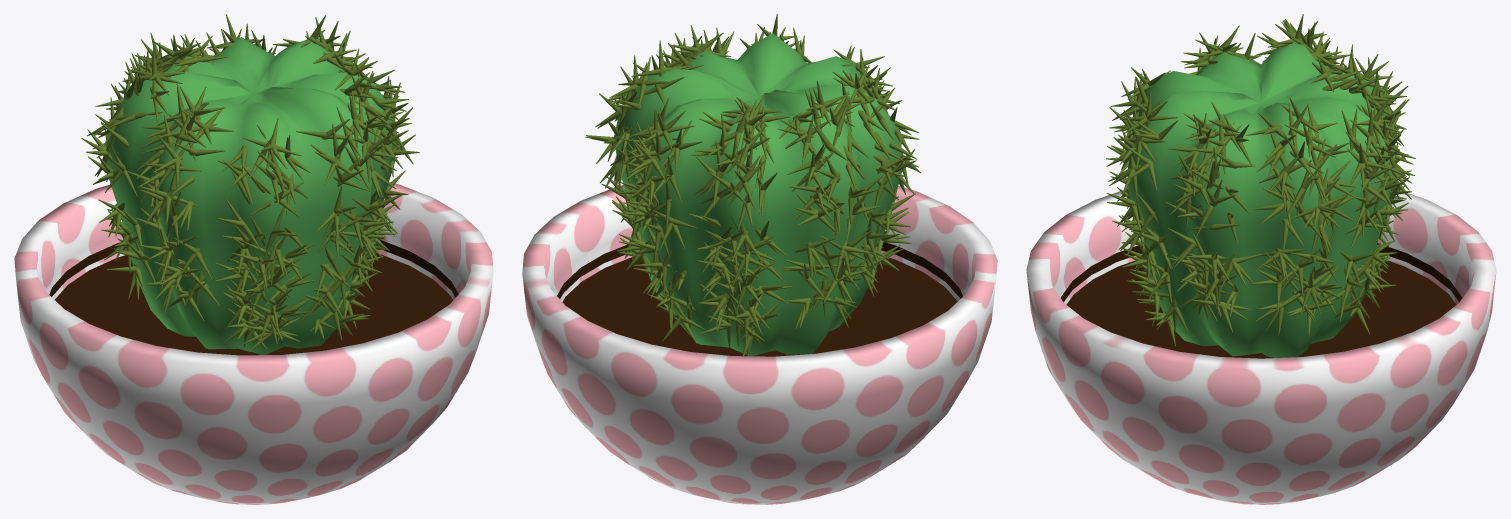
File: cactus.gltf
The picture shows the model from 3 angles, left to right: view 1: azimuth 30°, elevation 25°; view 2: azimuth 150°, elevation 25°; view 3: azimuth 270°, elevation 25°; orthographic projection. The views are drawn at different scales.
Visible parts, largest first — view 1: Сфера, Сфера.001, Окружность; view 2: Сфера, Сфера.001, Окружность; view 3: Сфера, Сфера.001, Окружность.
Boxes of the visible parts, box(x1,y1,x2,y2) form: Сфера: box(14, 182, 493, 504); Сфера.001: box(106, 37, 396, 354); Окружность: box(49, 240, 458, 355); Сфера: box(522, 185, 997, 504); Сфера.001: box(614, 33, 902, 356); Окружность: box(557, 242, 962, 356); Сфера: box(1026, 189, 1496, 504); Сфера.001: box(1127, 39, 1392, 357); Окружность: box(1060, 243, 1462, 358).
Size of the model in its own units: 2 by 1.95 by 2.
Materials: 4 (1 with a texture image).
